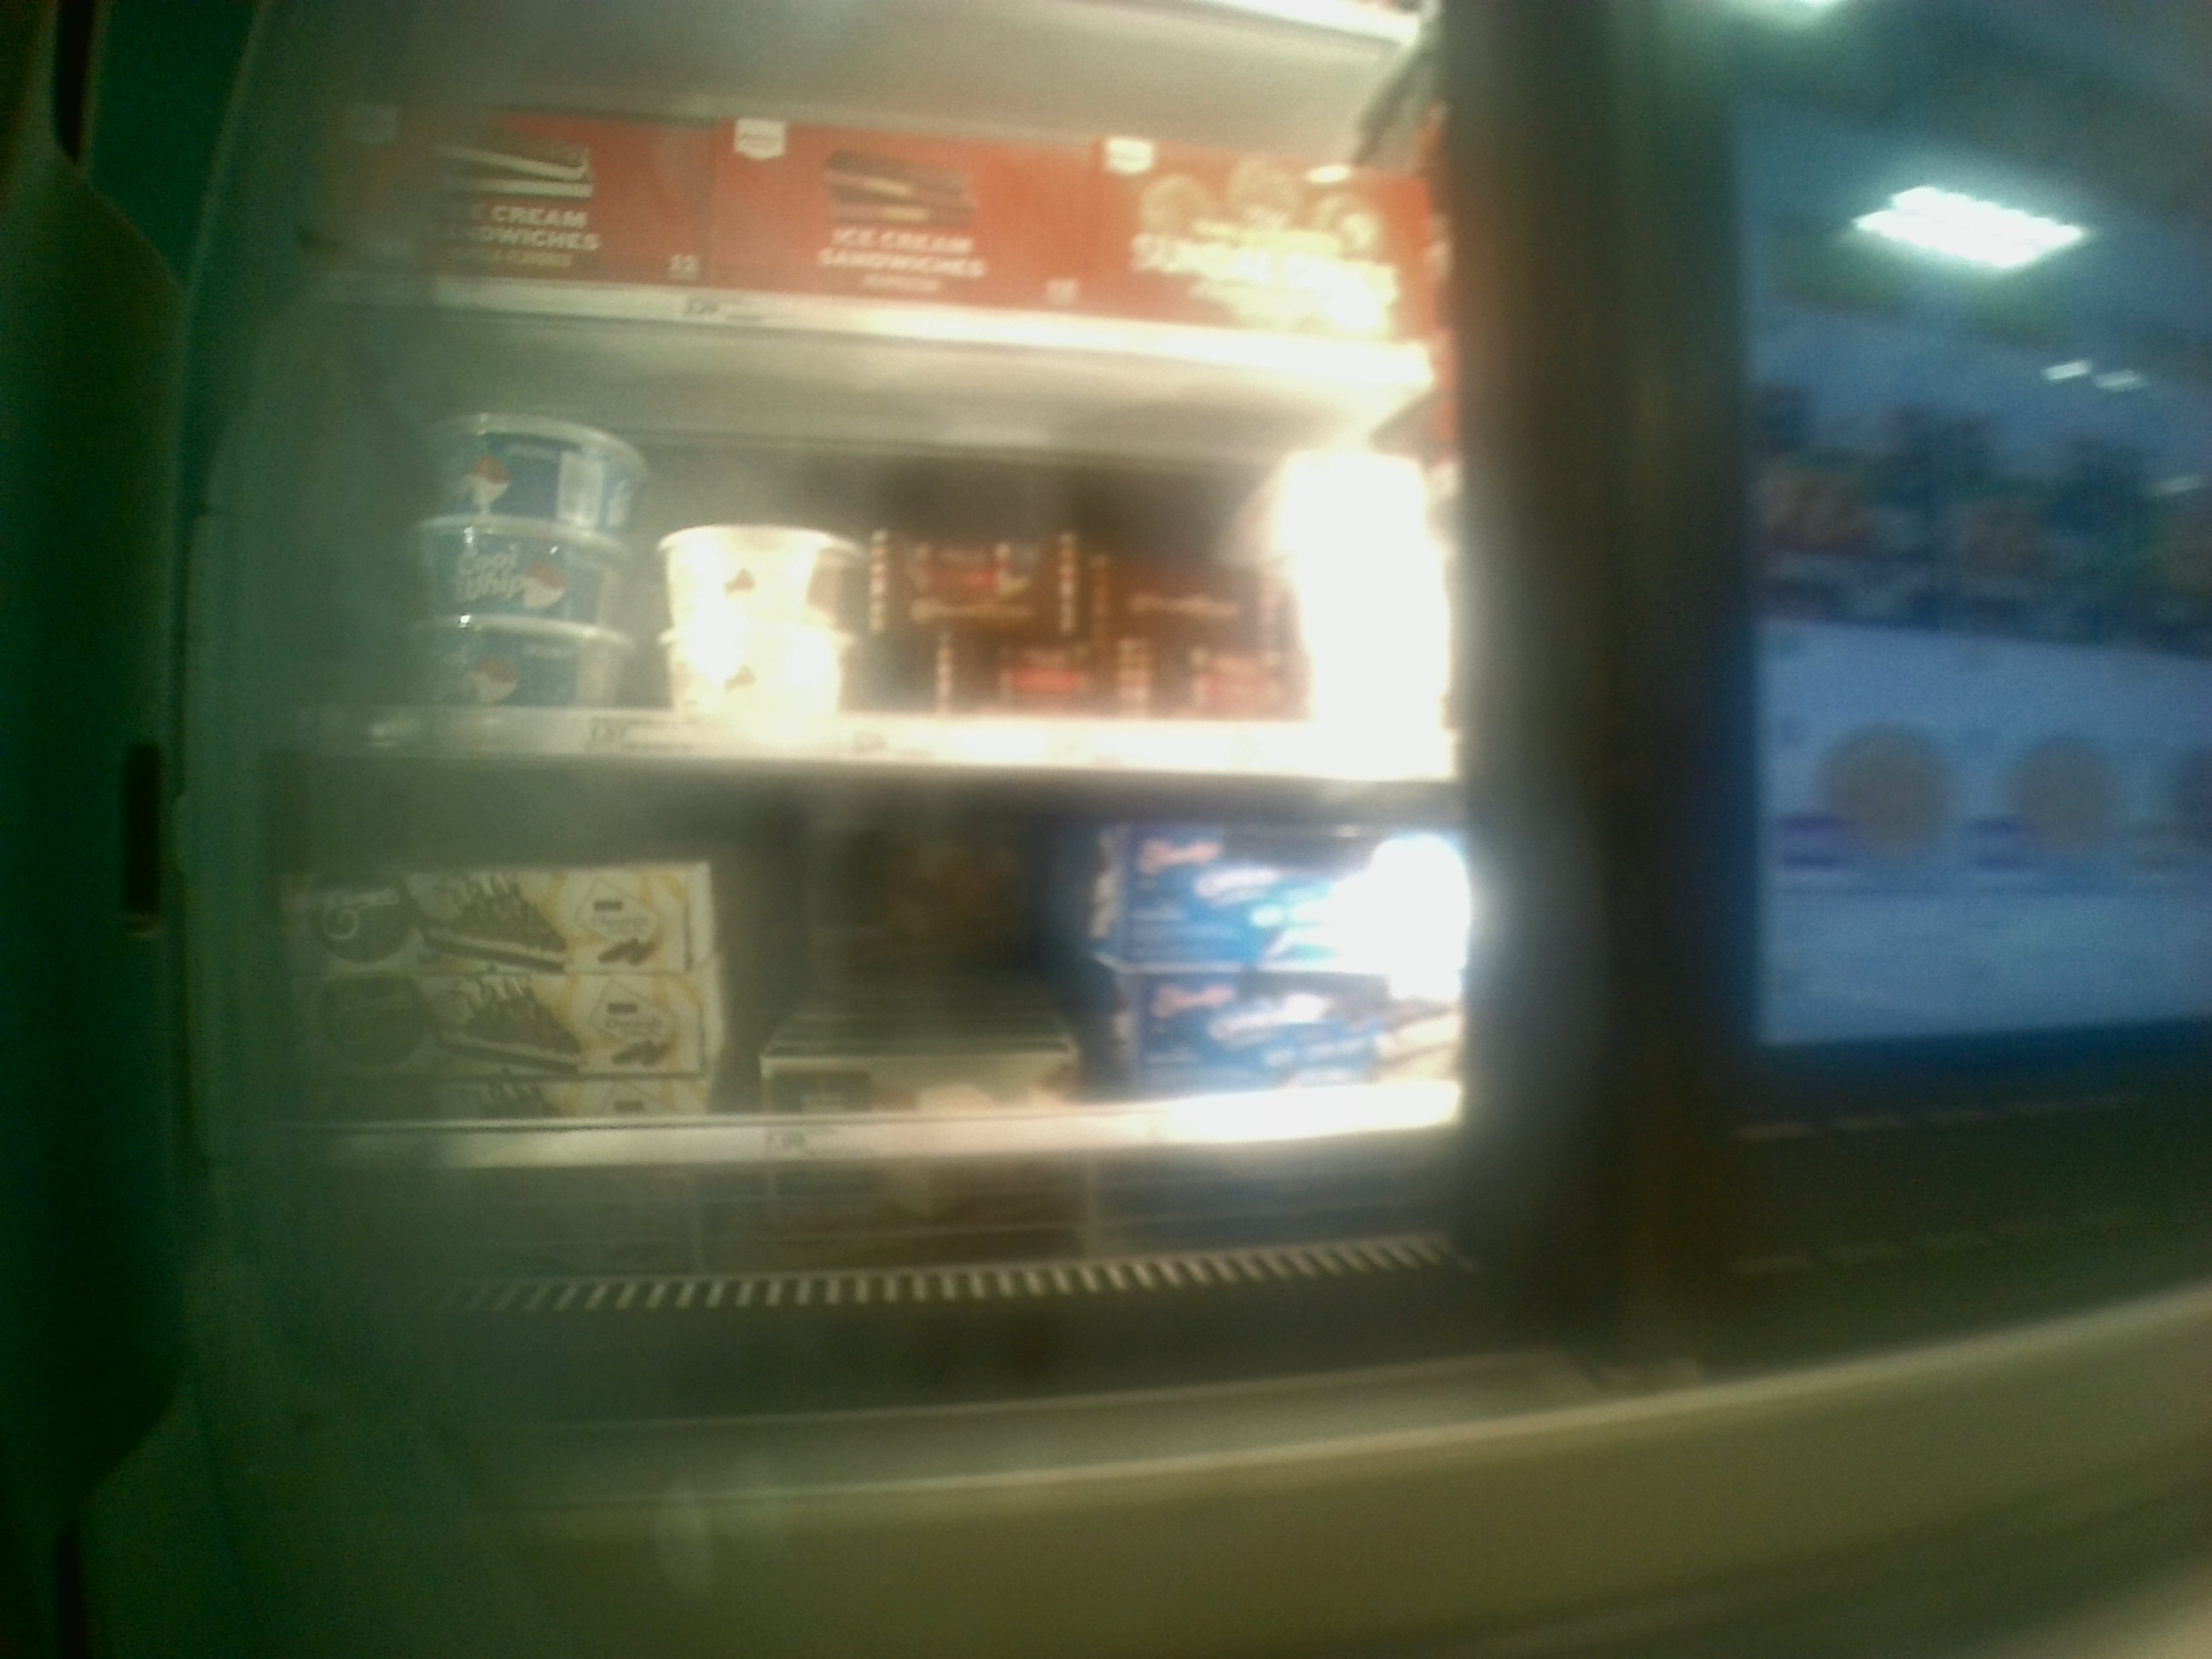frozen-food-shelf: (254, 322, 1475, 782), (246, 777, 1538, 1178)
